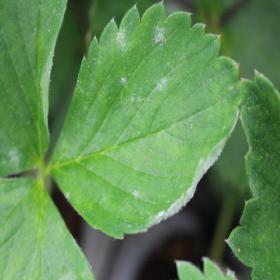Powdery Mildew Leaf: (46, 0, 246, 239)
